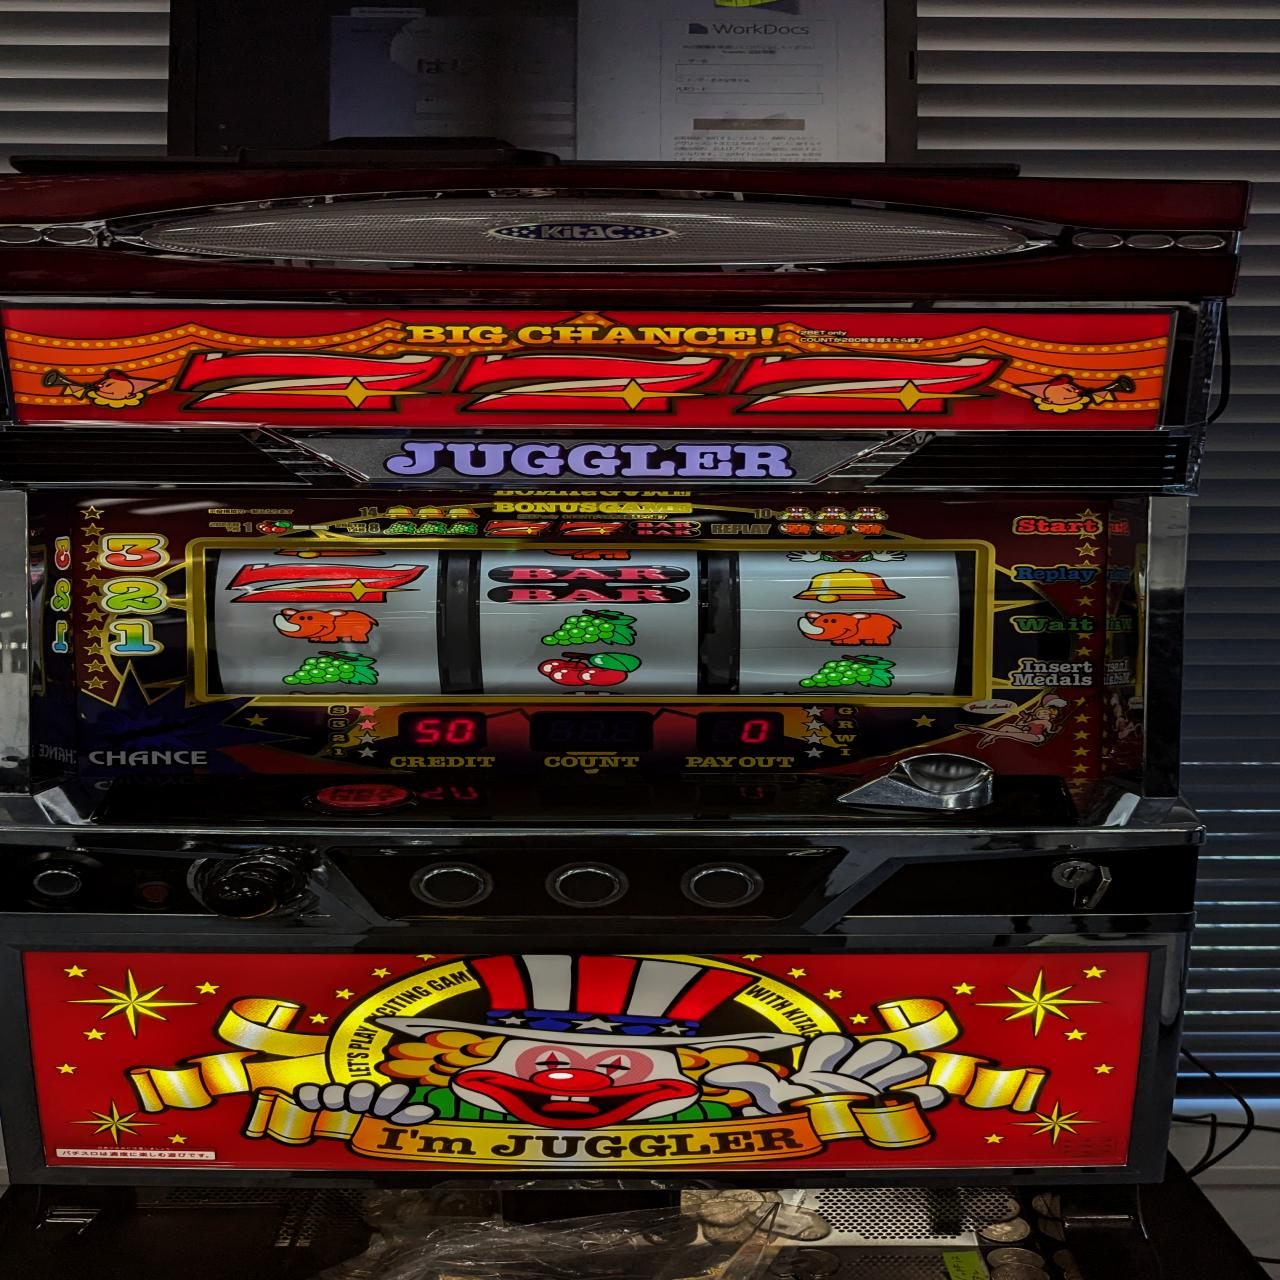7: (227, 560, 429, 607)
8: (260, 605, 388, 647), (792, 608, 908, 647)
Display: (195, 538, 978, 701)
bar: (483, 564, 695, 607)
bell: (794, 567, 911, 605)
cherry: (525, 649, 660, 688)
grape: (530, 606, 652, 651), (275, 647, 388, 688), (792, 653, 899, 693)
